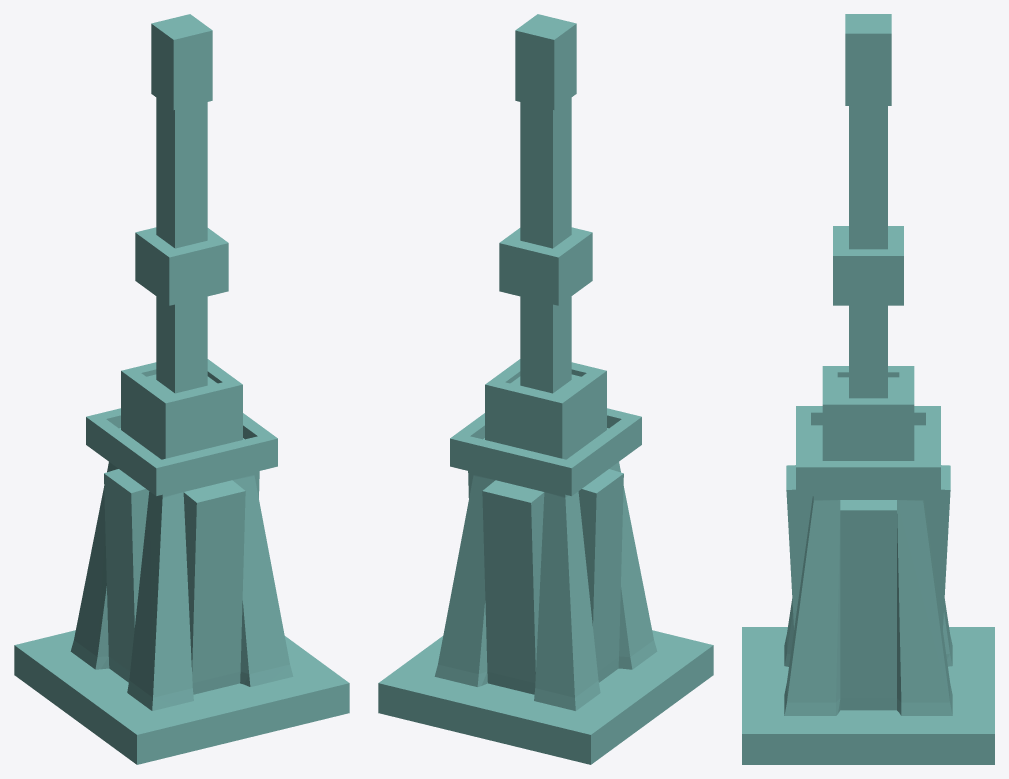
Rendered from EspacioInicialColumnaInteriorAltoNI.gltf.
3 renders of one model, left to right at view 1: azimuth 30°, elevation 25°; view 2: azimuth 150°, elevation 25°; view 3: azimuth 270°, elevation 25°, orthographic. The views are drawn at different scales.
Visible parts, largest first — view 1: Columna interna alta 1/2.6; view 2: Columna interna alta 1/2.6; view 3: Columna interna alta 1/2.6.
Part boxes in pixels (left/top/right/bottom): Columna interna alta 1/2.6: left=14, top=14, right=349, bottom=764; Columna interna alta 1/2.6: left=378, top=14, right=713, bottom=764; Columna interna alta 1/2.6: left=742, top=14, right=994, bottom=764.
Size of the model in its own units: 0.6667 by 2 by 0.6667.
